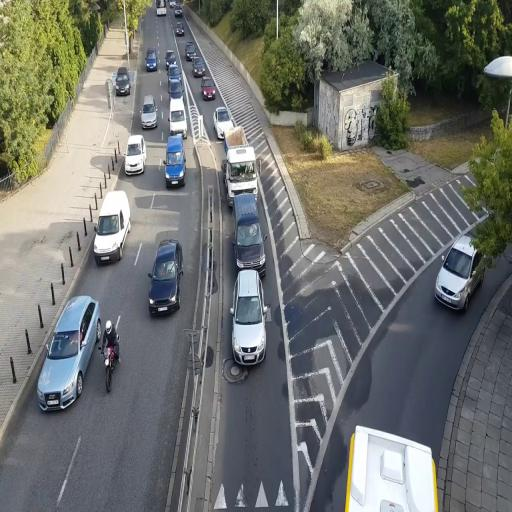vehicle: (344, 426, 440, 511), (344, 426, 439, 510), (36, 294, 102, 412), (434, 238, 485, 313), (230, 269, 268, 367), (92, 188, 132, 264), (234, 192, 266, 274), (148, 241, 182, 316), (225, 140, 258, 199), (164, 134, 186, 186), (124, 134, 146, 176), (214, 106, 236, 140), (141, 98, 158, 130), (114, 67, 131, 95), (201, 80, 216, 101), (146, 49, 158, 72), (166, 50, 178, 72), (193, 59, 205, 78), (185, 44, 195, 62)
